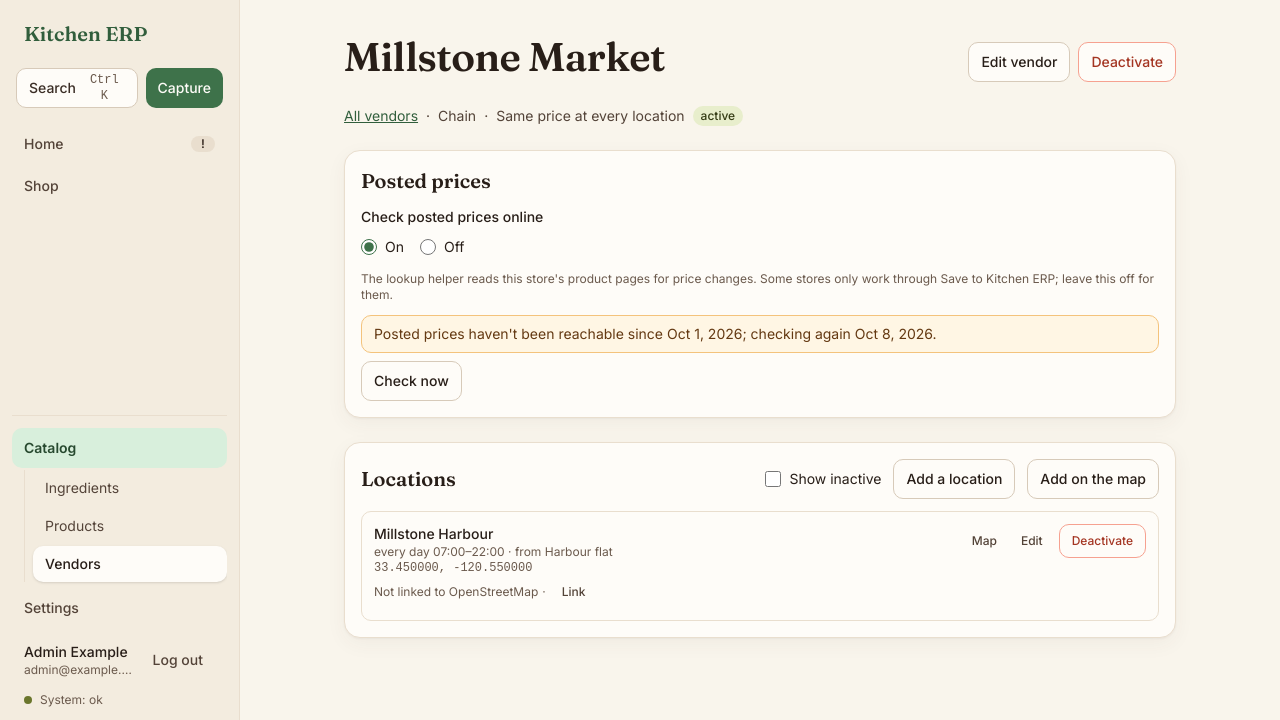
Scenario: posted prices on a vendor's page › shows a pause and checks again on request
Expected: the text "Posted prices haven't been reachable since" is shown, [374,325,663,342]
Expected: the text "checking again" is shown, [742,325,851,342]
Click the button "Check now" at (411, 381), box [361,361,462,401]
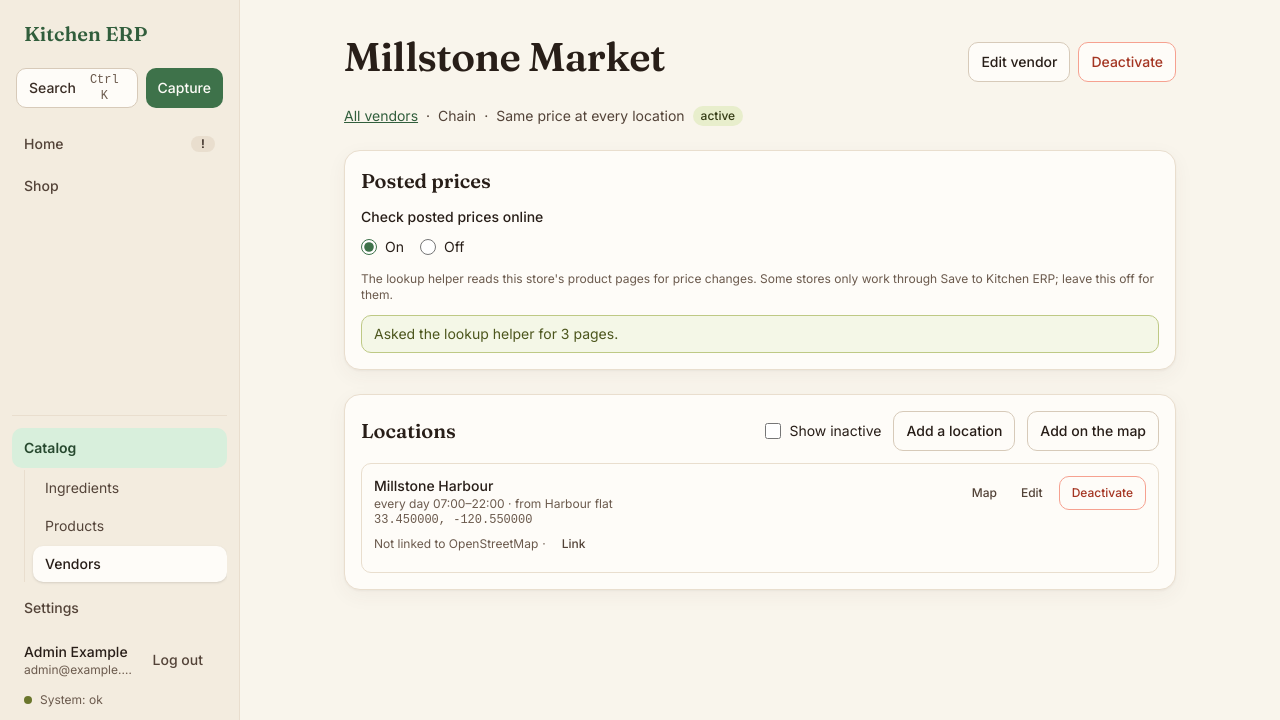
Result: the text "Asked the lookup helper for 3 pages." is shown at [361,315,1159,353]
Result: the text "haven't been reachable" is gone
